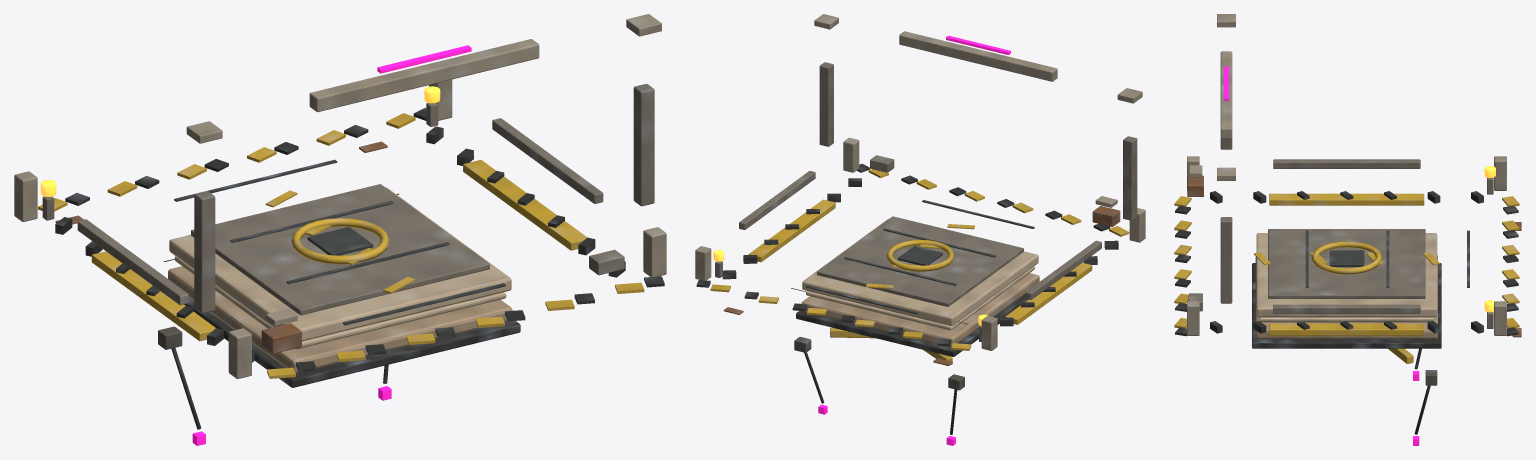
Rendered from repair_pad.glb.
3 renders of one model, left to right at view 1: azimuth 30°, elevation 25°; view 2: azimuth 150°, elevation 25°; view 3: azimuth 270°, elevation 25°, orthographic. The views are drawn at different scales.
Parts seen in each view (by area): view 1: Sandwar3D; view 2: Sandwar3D; view 3: Sandwar3D.
Boxes of the visible parts, x1,y1,x2,y2 form: Sandwar3D: [14, 14, 666, 445]; Sandwar3D: [695, 14, 1145, 445]; Sandwar3D: [1174, 14, 1521, 445].
Bounding box in the file's own units: 2.99 × 2.84 × 2.71.
Materials: 11 (10 with a texture image).
